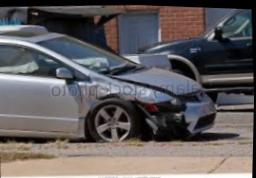Bonnet: (106, 66, 203, 94)
Bumper: (146, 104, 210, 139)
Fender: (78, 76, 176, 127)
Light: (136, 99, 189, 113)
